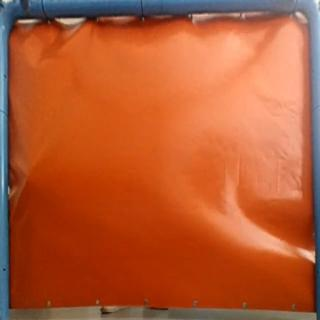Hit-hRxx: (19, 166, 34, 188)
